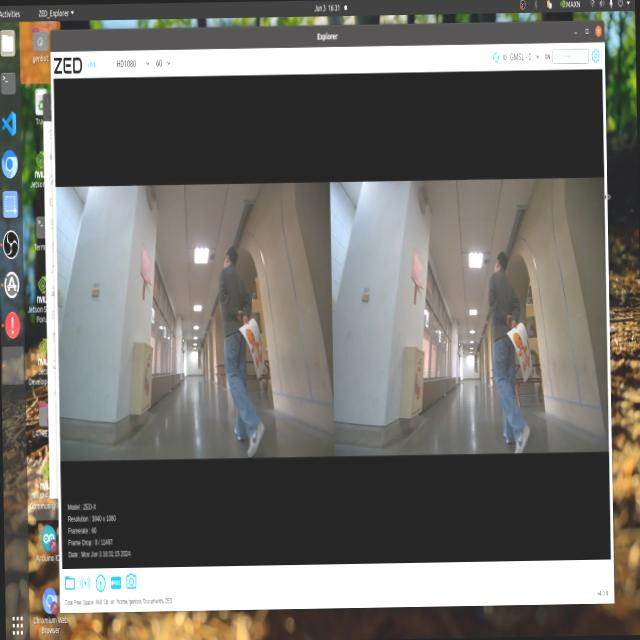red: (508, 322, 536, 380), (244, 320, 268, 377)
